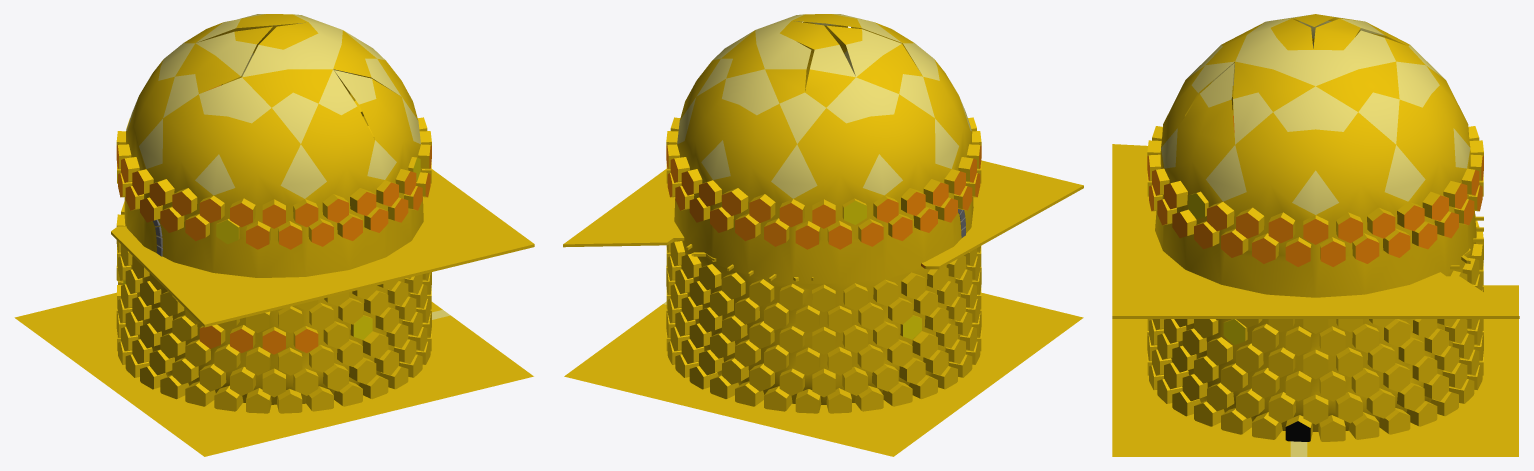
Rendered from Bee game Map2.fbx.
3 renders of one model, left to right at view 1: azimuth 30°, elevation 25°; view 2: azimuth 150°, elevation 25°; view 3: azimuth 270°, elevation 25°, orthographic. The views are drawn at different scales.
Parts seen in each view (by area): view 1: map 2; view 2: map 2; view 3: map 2.
Part boxes in pixels (<box>): map 2: <box>14,14,534,456</box>; map 2: <box>563,14,1083,456</box>; map 2: <box>1112,14,1519,456</box>.
Bounding box in the file's own units: 2440 × 2382 × 2440.
